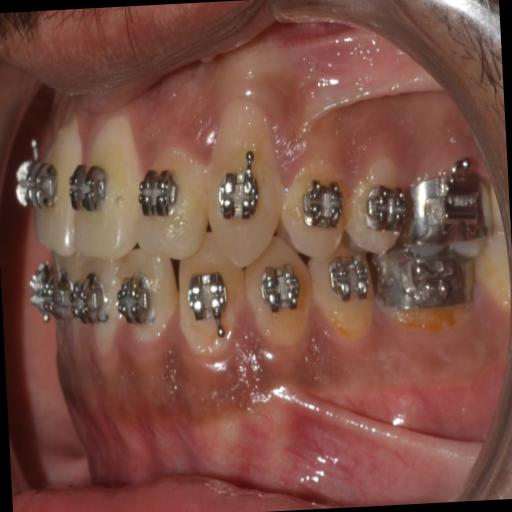correct_brace: (248, 239, 314, 356), (279, 155, 350, 258), (214, 144, 266, 234), (254, 257, 308, 333), (70, 148, 114, 241), (138, 161, 183, 239), (183, 267, 232, 338), (118, 270, 156, 345), (328, 257, 371, 316), (74, 264, 109, 336)
incorrect_brace: (134, 146, 212, 256), (115, 260, 181, 360), (298, 178, 346, 236)
